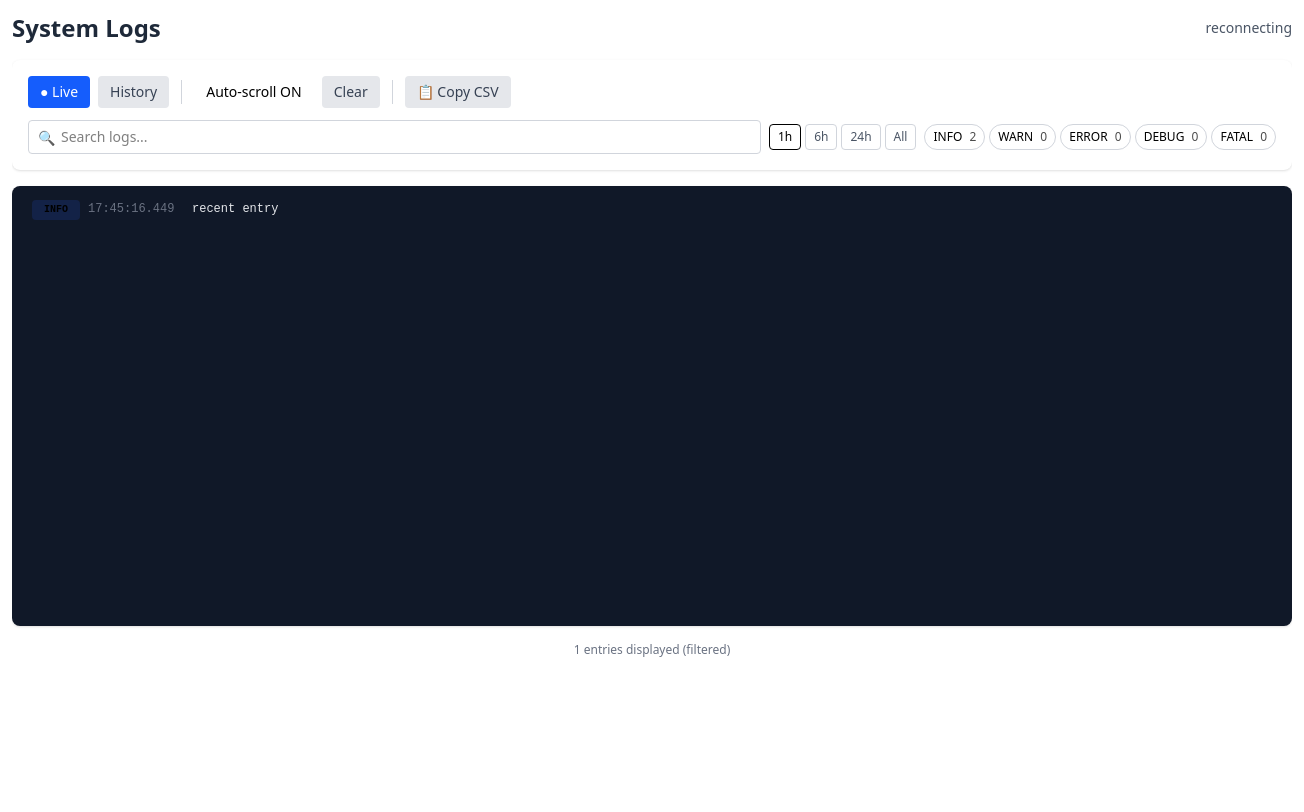
LogsComponent › should filter entries by time range
Check: the text "recent entry" is shown, box [192,202,278,216]
Check: the text "old entry" is not shown
// Switch to "All" time range, both should show
Click the button with test id "logs-time-range-all" at (901, 137), box [885,124,916,150]
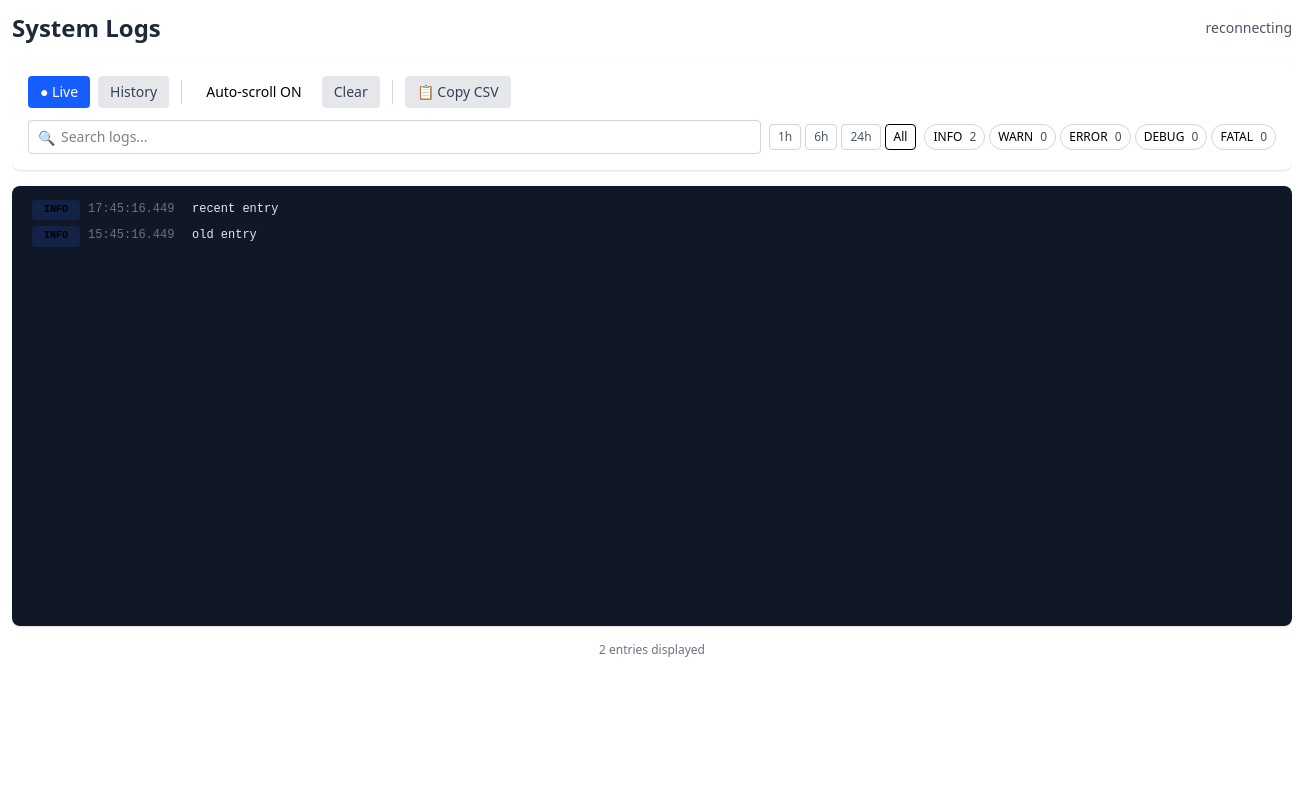
Check: the text "recent entry" is shown, box [192,202,278,216]
Check: the text "old entry" is shown, box [192,228,257,242]
